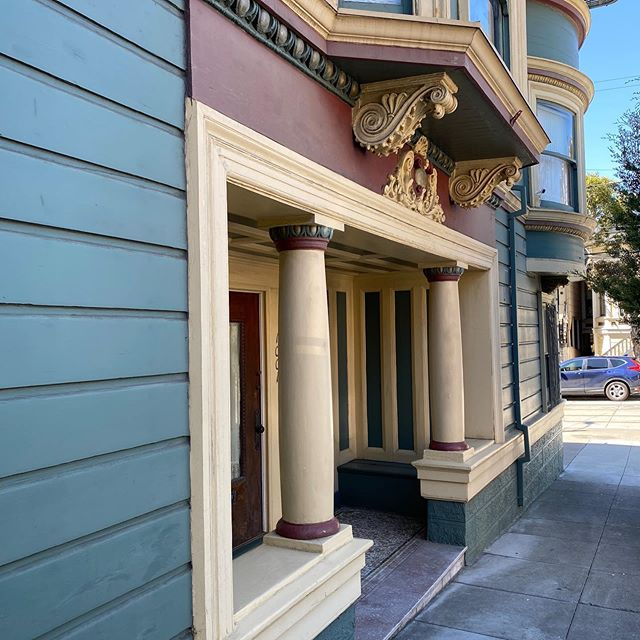building: (1, 15, 570, 640)
car: (550, 345, 640, 410)
sky: (590, 6, 640, 186)
